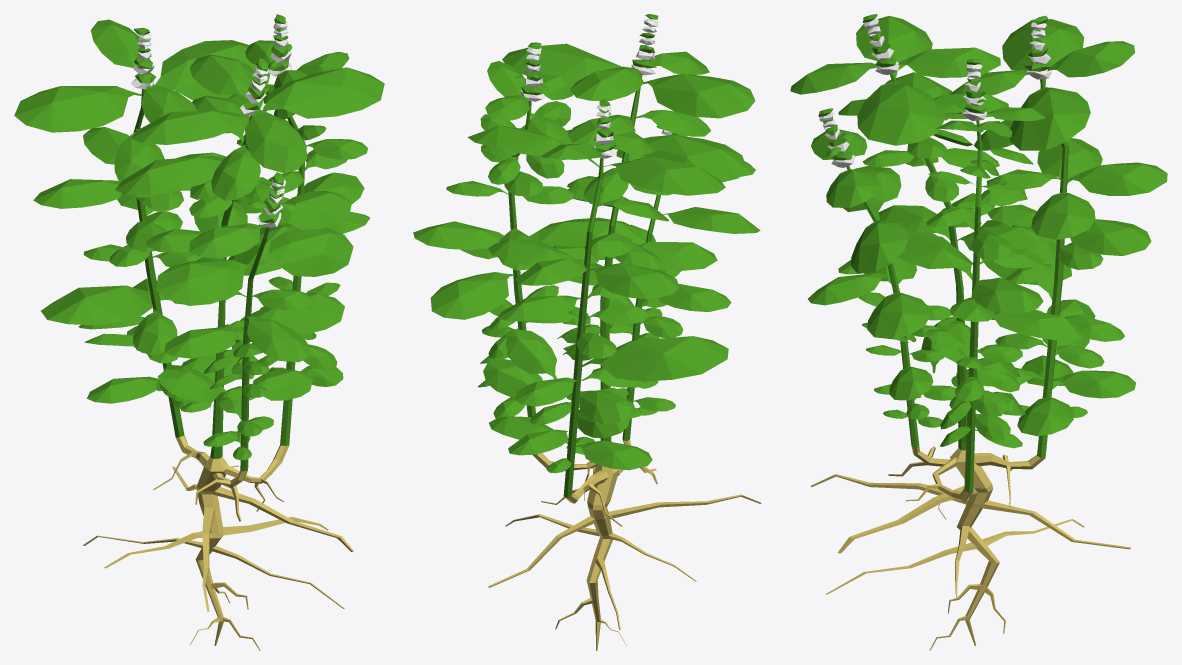
Rendered from basil_3.glb.
3 views of the same model, side by side, from view 1: azimuth 30°, elevation 25°; view 2: azimuth 150°, elevation 25°; view 3: azimuth 270°, elevation 25° (orthographic). The views are drawn at different scales.
Parts seen in each view (by area): view 1: 3; view 2: 3; view 3: 3.
Boxes of the visible parts, left/top/right/bottom form: 3: left=14, top=14, right=384, bottom=650; 3: left=413, top=14, right=761, bottom=650; 3: left=790, top=14, right=1167, bottom=650.
Size of the model in its own units: 11.11 by 20.17 by 10.95.
1 material, 1 textured.
